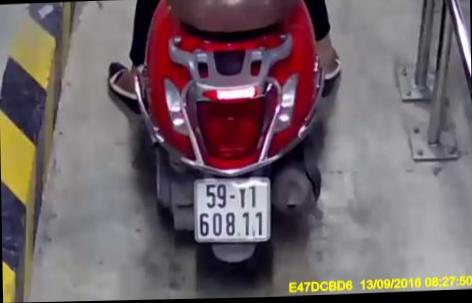LP: (192, 175, 273, 246)
